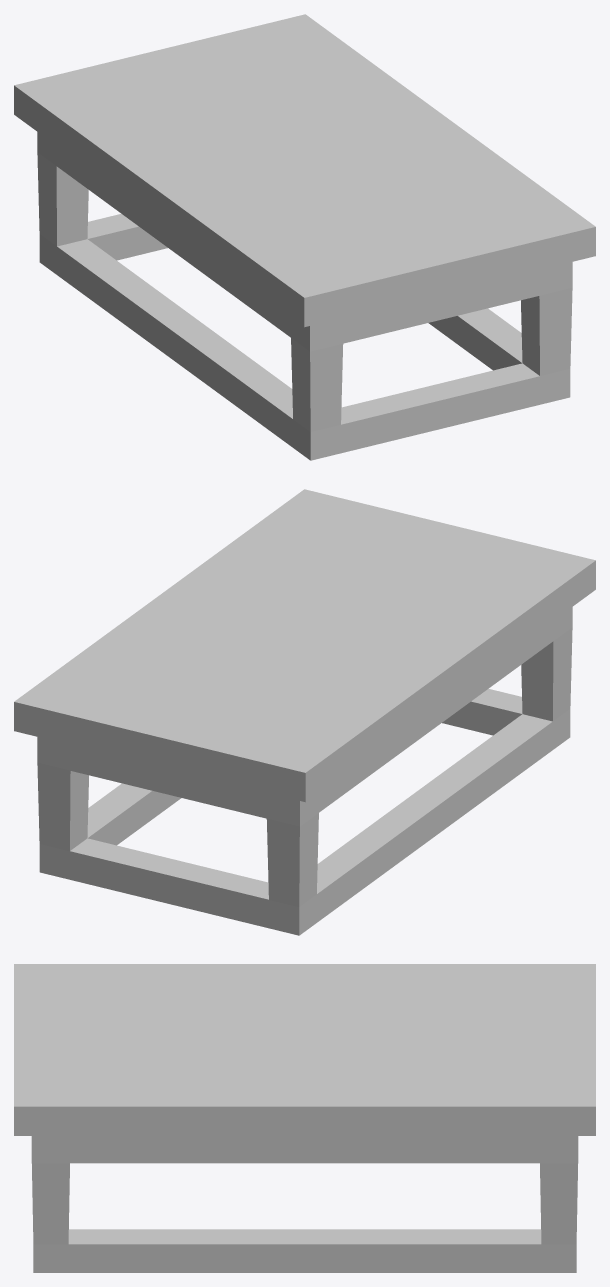
File: CoffeeTable2.glb
3 views of the same model, one above another, from view 1: azimuth 30°, elevation 25°; view 2: azimuth 150°, elevation 25°; view 3: azimuth 270°, elevation 25° (orthographic).
Parts seen in each view (by area): view 1: CoffeeTable2; view 2: CoffeeTable2; view 3: CoffeeTable2.
Part boxes in pixels (x1=…): CoffeeTable2: x1=14, y1=14, x2=595, y2=460; CoffeeTable2: x1=14, y1=489, x2=595, y2=935; CoffeeTable2: x1=14, y1=964, x2=595, y2=1272.
Bounding box in the file's own units: 0.5889 × 0.3354 × 1.02.
2 materials, 2 textured.
